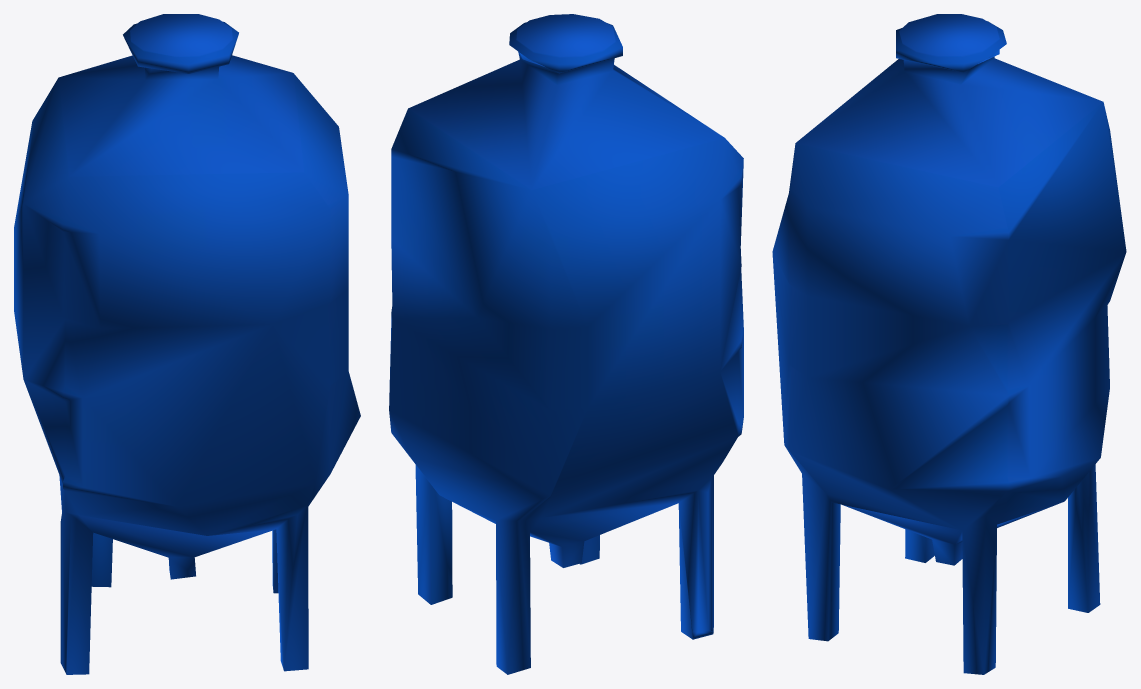
The model's file is model.progressive.glb.
3 renders of one model, left to right at view 1: azimuth 30°, elevation 25°; view 2: azimuth 150°, elevation 25°; view 3: azimuth 270°, elevation 25°, orthographic. The views are drawn at different scales.
Parts seen in each view (by area): view 1: material; view 2: material; view 3: material.
Part boxes in pixels (bbox=[...]): material: bbox=[14, 14, 360, 674]; material: bbox=[389, 14, 743, 674]; material: bbox=[772, 14, 1126, 674].
Size of the model in its own units: 1.05 by 1.9 by 1.05.
Materials: 1 (1 with a texture image).
